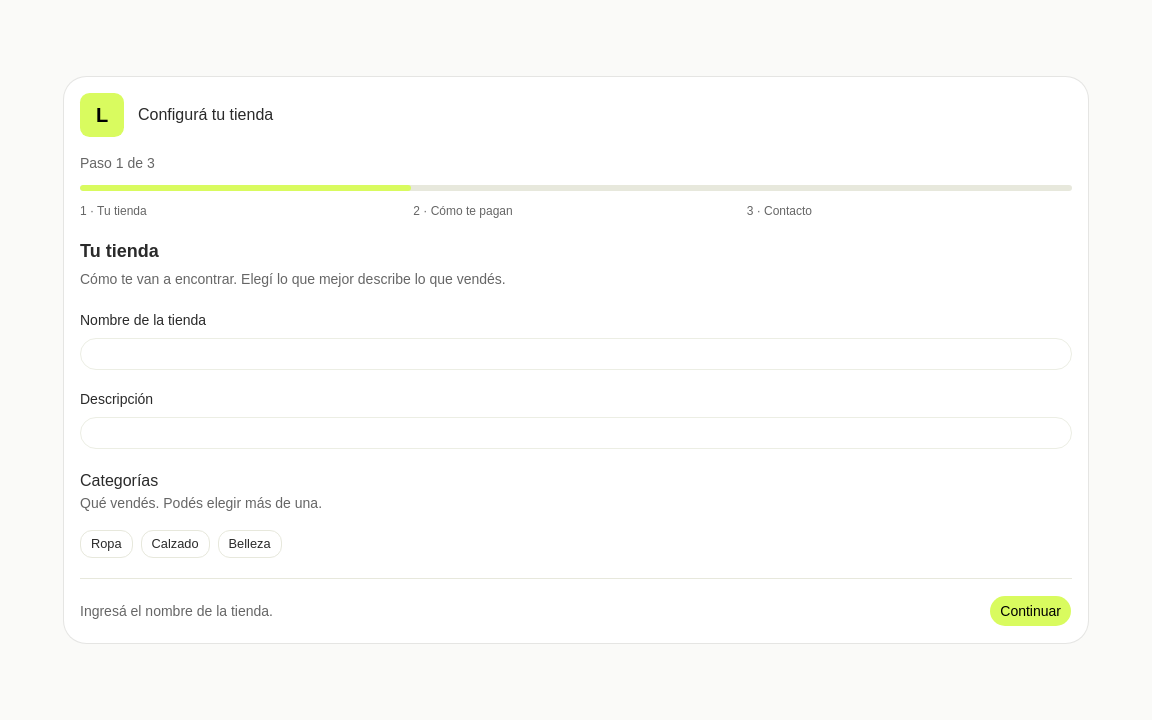
Test: shop wizard — step 1 · Tu tienda › blocks advancing until a name, a description and one category are there
The width and height of the screenshot is (1152, 720).
Click the button "Continuar" at point(1031, 611), box [989,595,1072,627]
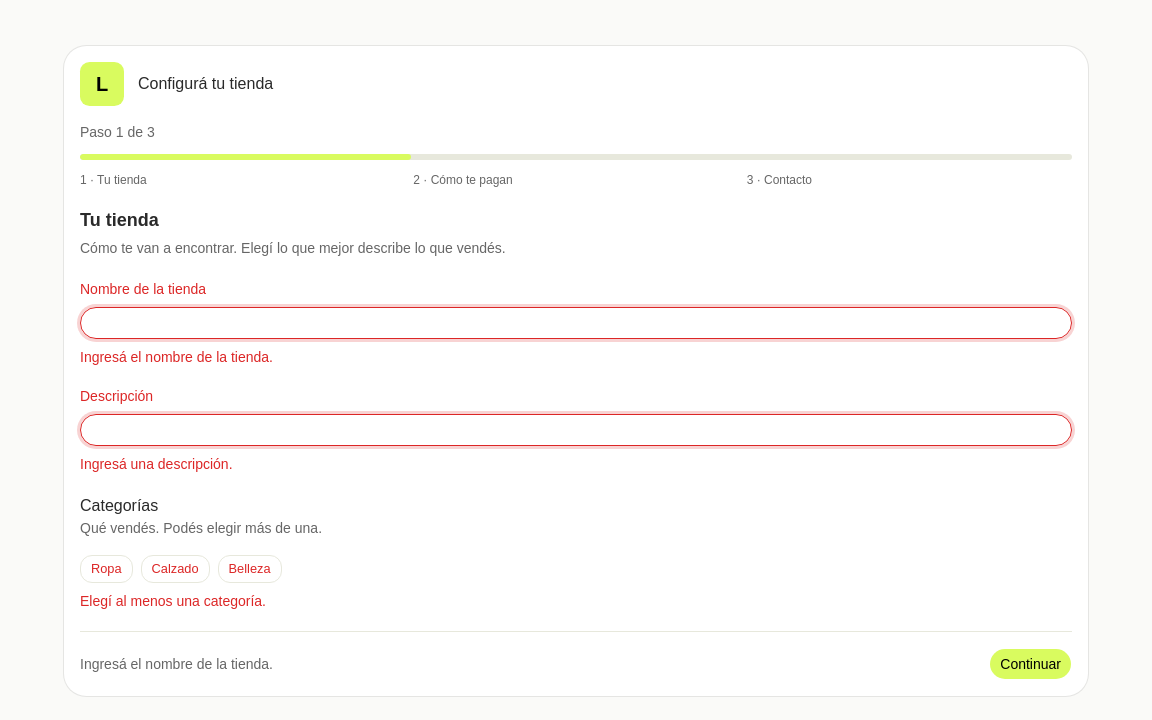
Check: the text "Ingresá el nombre de la tienda." is shown, box [80,349,273,365]
Check: the text "Ingresá una descripción." is shown, box [80,456,232,472]
Check: the text "Elegí al menos una categoría." is shown, box [80,593,266,609]
